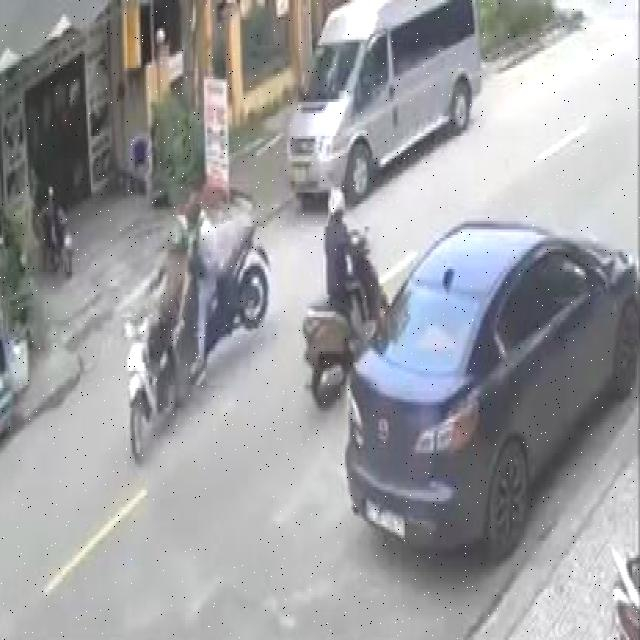accident: (116, 177, 276, 477)
